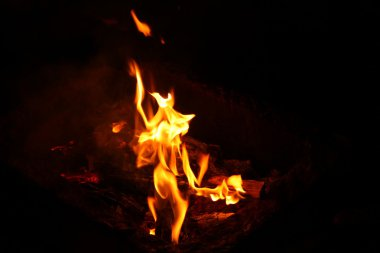fire: (113, 50, 247, 228)
